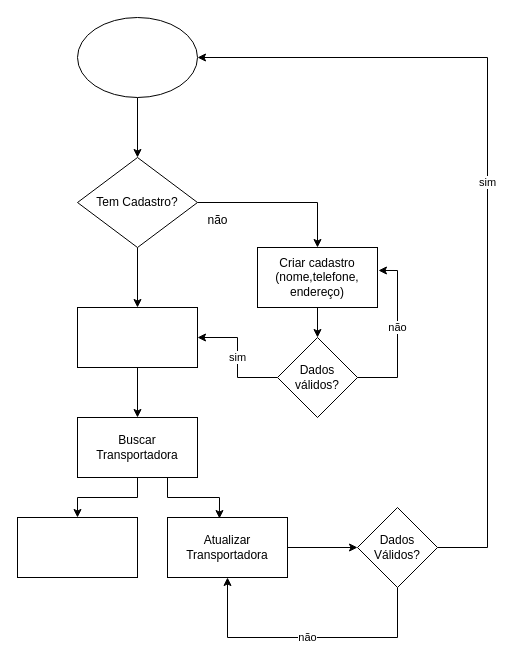
This 513x663 diagram has some shape labels left out. Each missing label, with the centre of its shape:
"Apagar Transportadora" belongs at pixel 77 547.
"Cadastro Transportadora" belongs at pixel 137 57.
"Listar" belongs at pixel 137 337.
